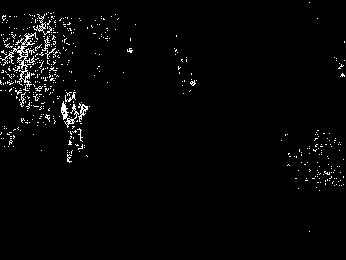person: (54, 86, 95, 162)
